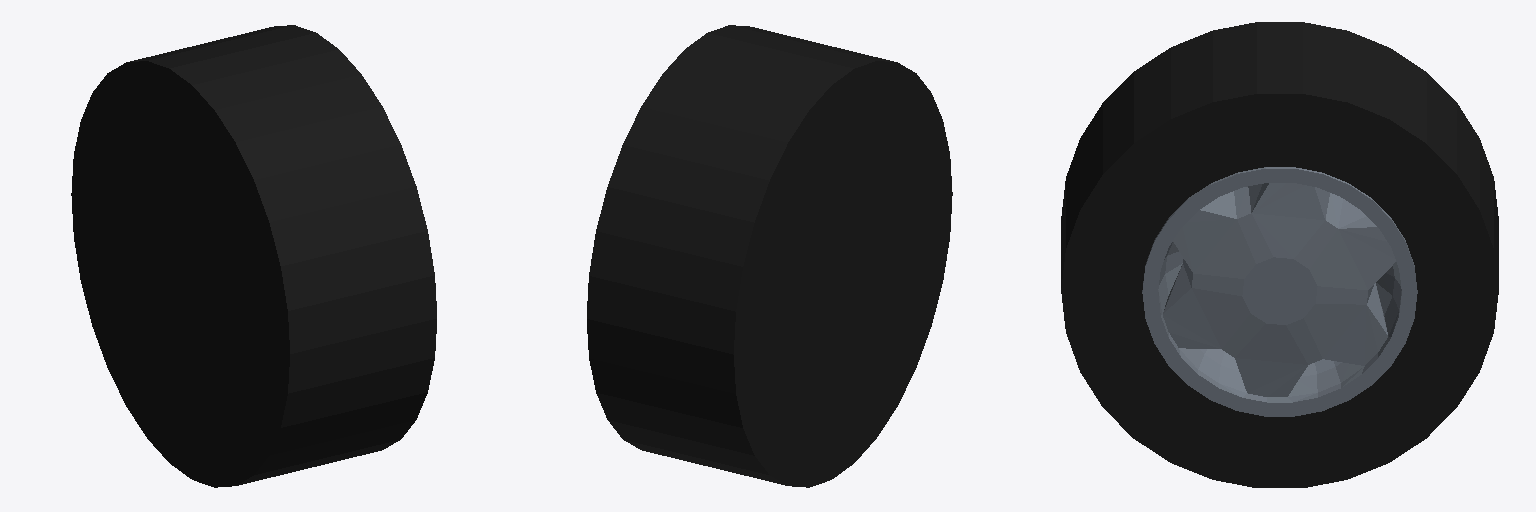
3 views of the same model, side by side, from view 1: azimuth 30°, elevation 25°; view 2: azimuth 150°, elevation 25°; view 3: azimuth 270°, elevation 25° (orthographic).
Visible parts, largest first — view 1: wheel_fl_Circle_067; view 2: wheel_fl_Circle_067; view 3: wheel_fl_Circle_067.
Part boxes in pixels (bbox=[...]): wheel_fl_Circle_067: bbox=[71, 25, 436, 487]; wheel_fl_Circle_067: bbox=[587, 25, 952, 487]; wheel_fl_Circle_067: bbox=[1061, 22, 1498, 487].
Size of the model in its own units: 0.2576 by 0.6463 by 0.6497.
1 materials, 1 textured.